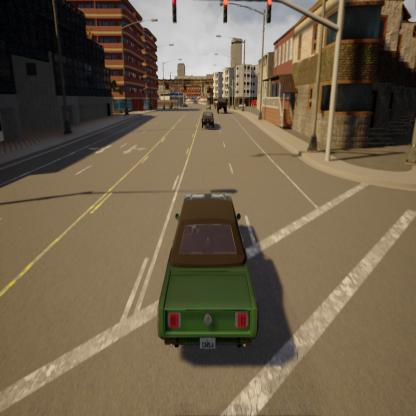Cars: (152, 176, 264, 369), (197, 108, 218, 133), (215, 94, 229, 115)
